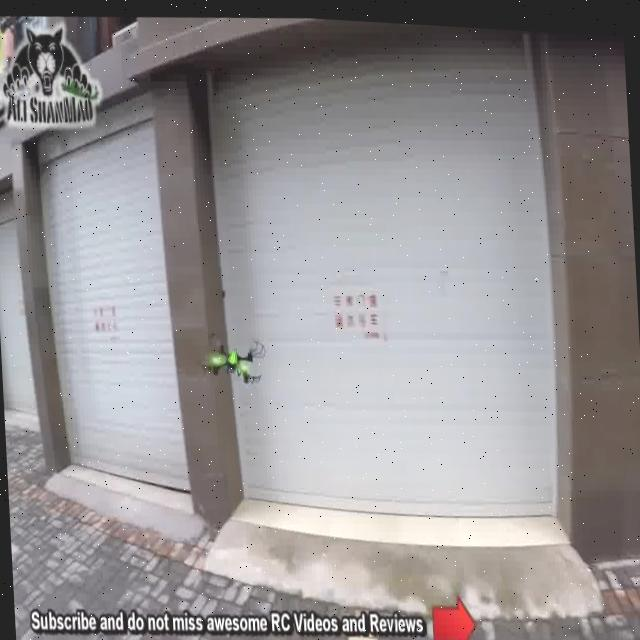drone: (195, 309, 278, 399)
